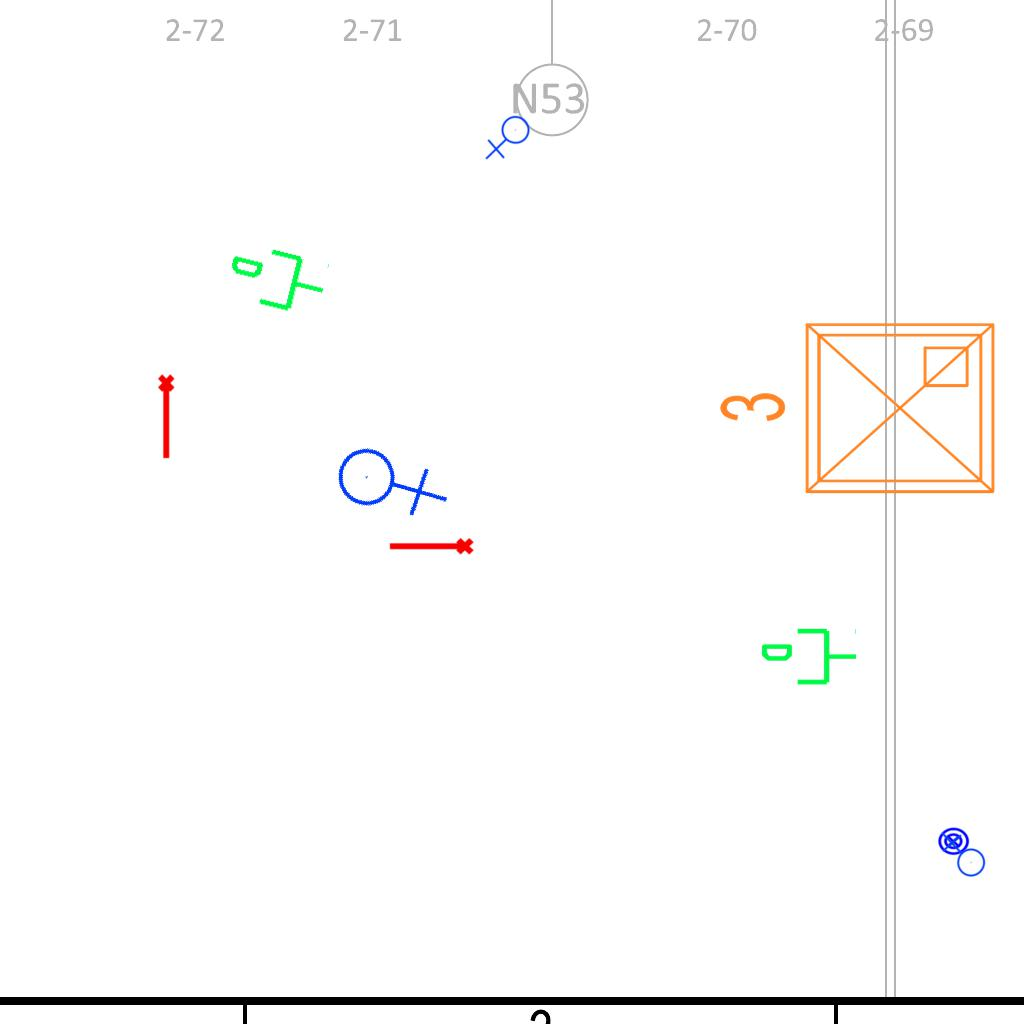ASR_Ansaugoeffnung: (156, 373, 179, 461), (387, 536, 475, 559)
Datenanschluss_einfach: (219, 235, 334, 327), (759, 624, 859, 693)
Einbaudownlights_LED_Konferenzraeume: (709, 308, 1009, 516)
Elektroanschluss_allgemein_230V_Geraeteanschlussdose_230V: (322, 412, 453, 546), (485, 115, 534, 162), (939, 832, 986, 881)
Taster_beleuchtet: (937, 825, 970, 858)
